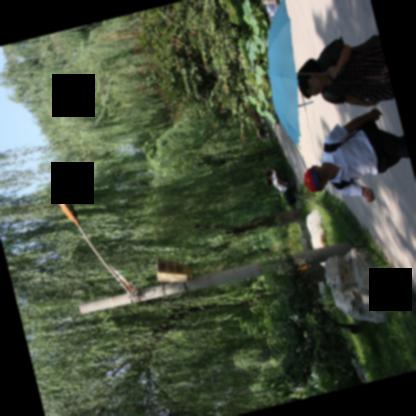backpack: (323, 120, 376, 189), (322, 90, 366, 98)
